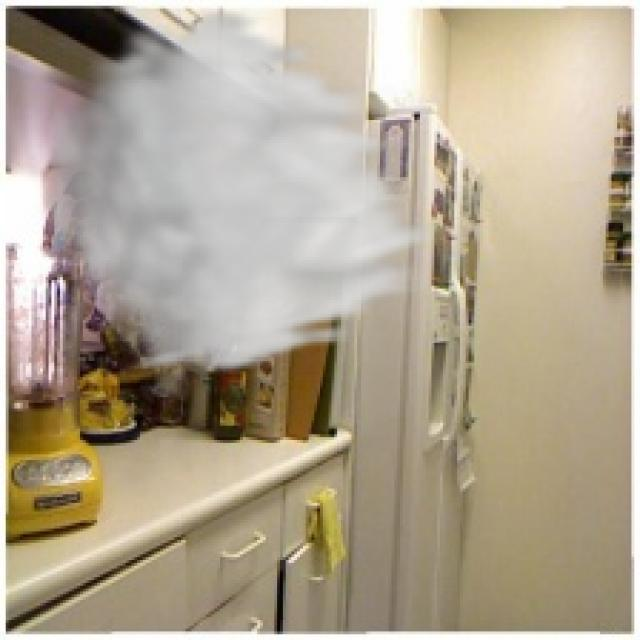Smoke: (34, 2, 449, 378)
